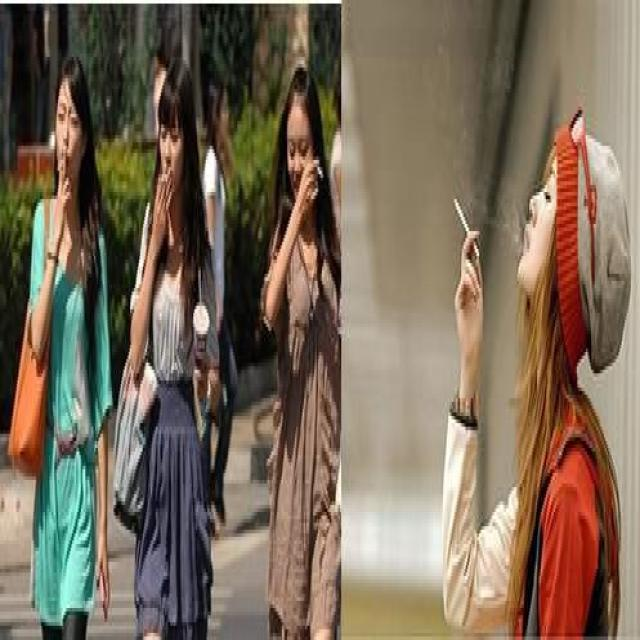cigarette: (450, 164, 484, 274), (309, 142, 330, 192), (157, 149, 175, 192), (53, 135, 68, 178)
